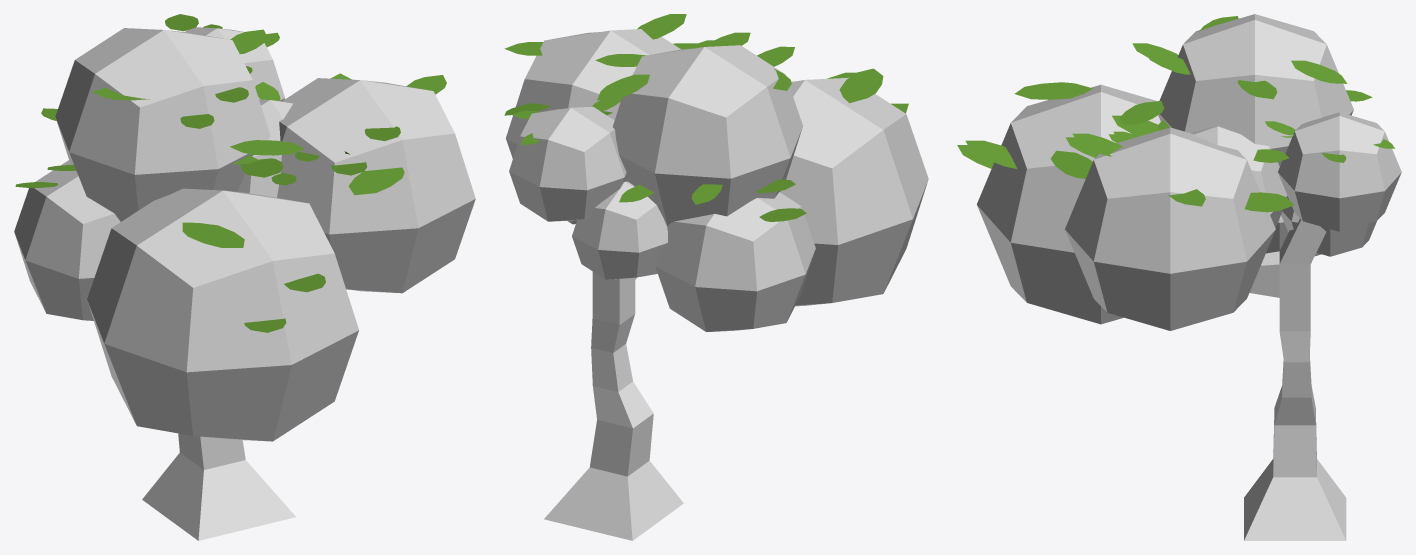
The model's file is Rounded Tree.fbx.
3 renders of one model, left to right at view 1: azimuth 30°, elevation 25°; view 2: azimuth 150°, elevation 25°; view 3: azimuth 270°, elevation 25°, orthographic. The views are drawn at different scales.
Parts seen in each view (by area): view 1: Cube.014, Cube.012, Cube.016, Cube.015, Plane.001, Cube.018, Cube.013, Cube.017; view 2: Cube.016, Cube.014, Cube.015, Cube.018, Cube.017, Cube.012, Plane.001, Cube.019; view 3: Cube.012, Cube.014, Cube.016, Cube.018, Cube.017, Plane.001, Cube.013, Cube.019.
Boxes of the visible parts, bbox=[...] form: Cube.014: bbox=[87, 188, 358, 441]; Cube.012: bbox=[277, 78, 475, 293]; Cube.016: bbox=[55, 28, 270, 221]; Cube.015: bbox=[14, 160, 120, 320]; Plane.001: bbox=[15, 14, 446, 332]; Cube.018: bbox=[142, 433, 295, 540]; Cube.013: bbox=[237, 99, 293, 197]; Cube.017: bbox=[185, 27, 284, 101]; Cube.016: bbox=[613, 45, 802, 226]; Cube.014: bbox=[780, 77, 928, 306]; Cube.015: bbox=[655, 192, 815, 331]; Cube.018: bbox=[544, 272, 683, 540]; Cube.017: bbox=[509, 106, 626, 221]; Cube.012: bbox=[506, 29, 680, 224]; Plane.001: bbox=[504, 14, 908, 221]; Cube.019: bbox=[572, 181, 667, 279]; Cube.012: bbox=[1065, 127, 1275, 330]; Cube.014: bbox=[977, 84, 1160, 324]; Cube.016: bbox=[1158, 14, 1353, 166]; Cube.018: bbox=[1244, 219, 1346, 540]; Cube.017: bbox=[1278, 112, 1401, 231]; Plane.001: bbox=[957, 16, 1395, 212]; Cube.013: bbox=[1191, 125, 1288, 227]; Cube.019: bbox=[1281, 198, 1376, 256].
Size of the model in its own units: 814 by 1010 by 875.
